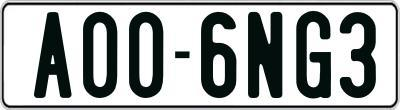0: (82, 11, 121, 98), (127, 9, 161, 98)
3: (338, 10, 379, 96)
6: (200, 9, 239, 99)
A: (32, 10, 73, 100)
G: (294, 10, 331, 103)
N: (246, 11, 285, 97)
